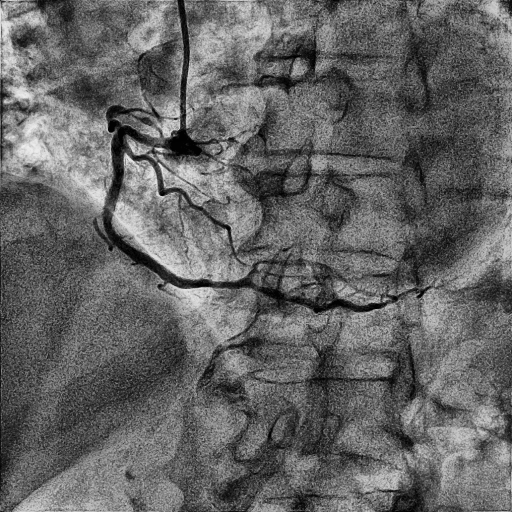pda: (246, 281, 420, 314)
rca: (103, 125, 248, 289)
